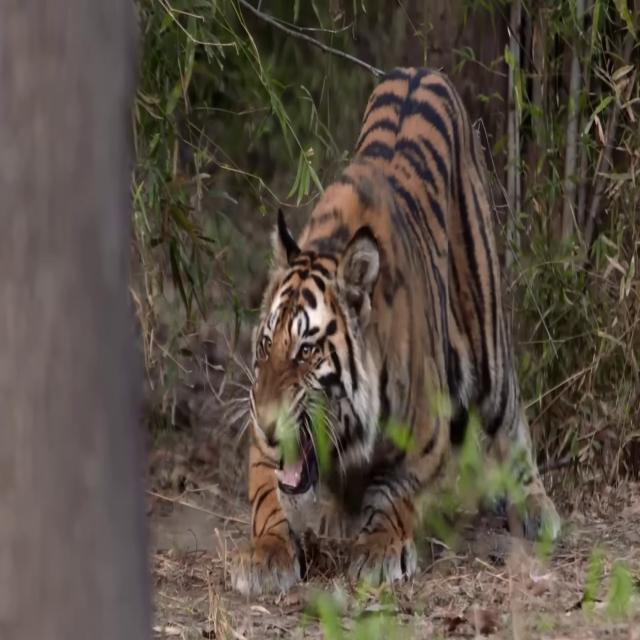tiger: (230, 64, 560, 593)
